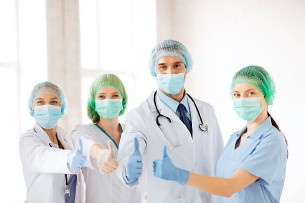Mask: (33, 96, 65, 128)
